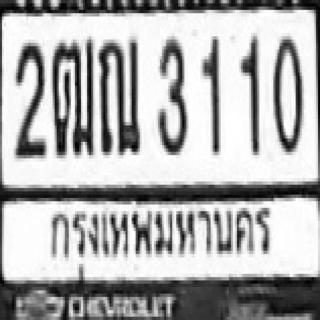A18: (51, 36, 91, 155)
A19: (97, 36, 138, 152)
N00: (271, 33, 302, 148)
N01: (200, 34, 219, 150), (239, 33, 257, 152)
N02: (13, 39, 44, 155)
N03: (156, 36, 186, 152)
P04: (37, 199, 276, 272)
